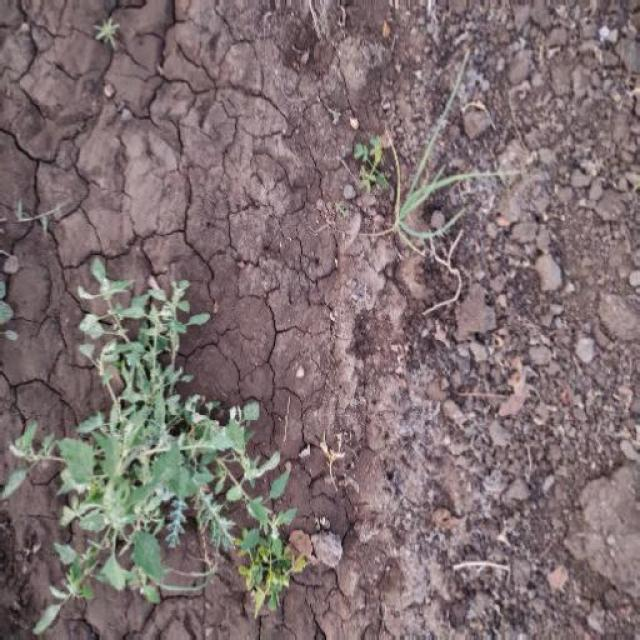weed: (20, 256, 309, 624)
